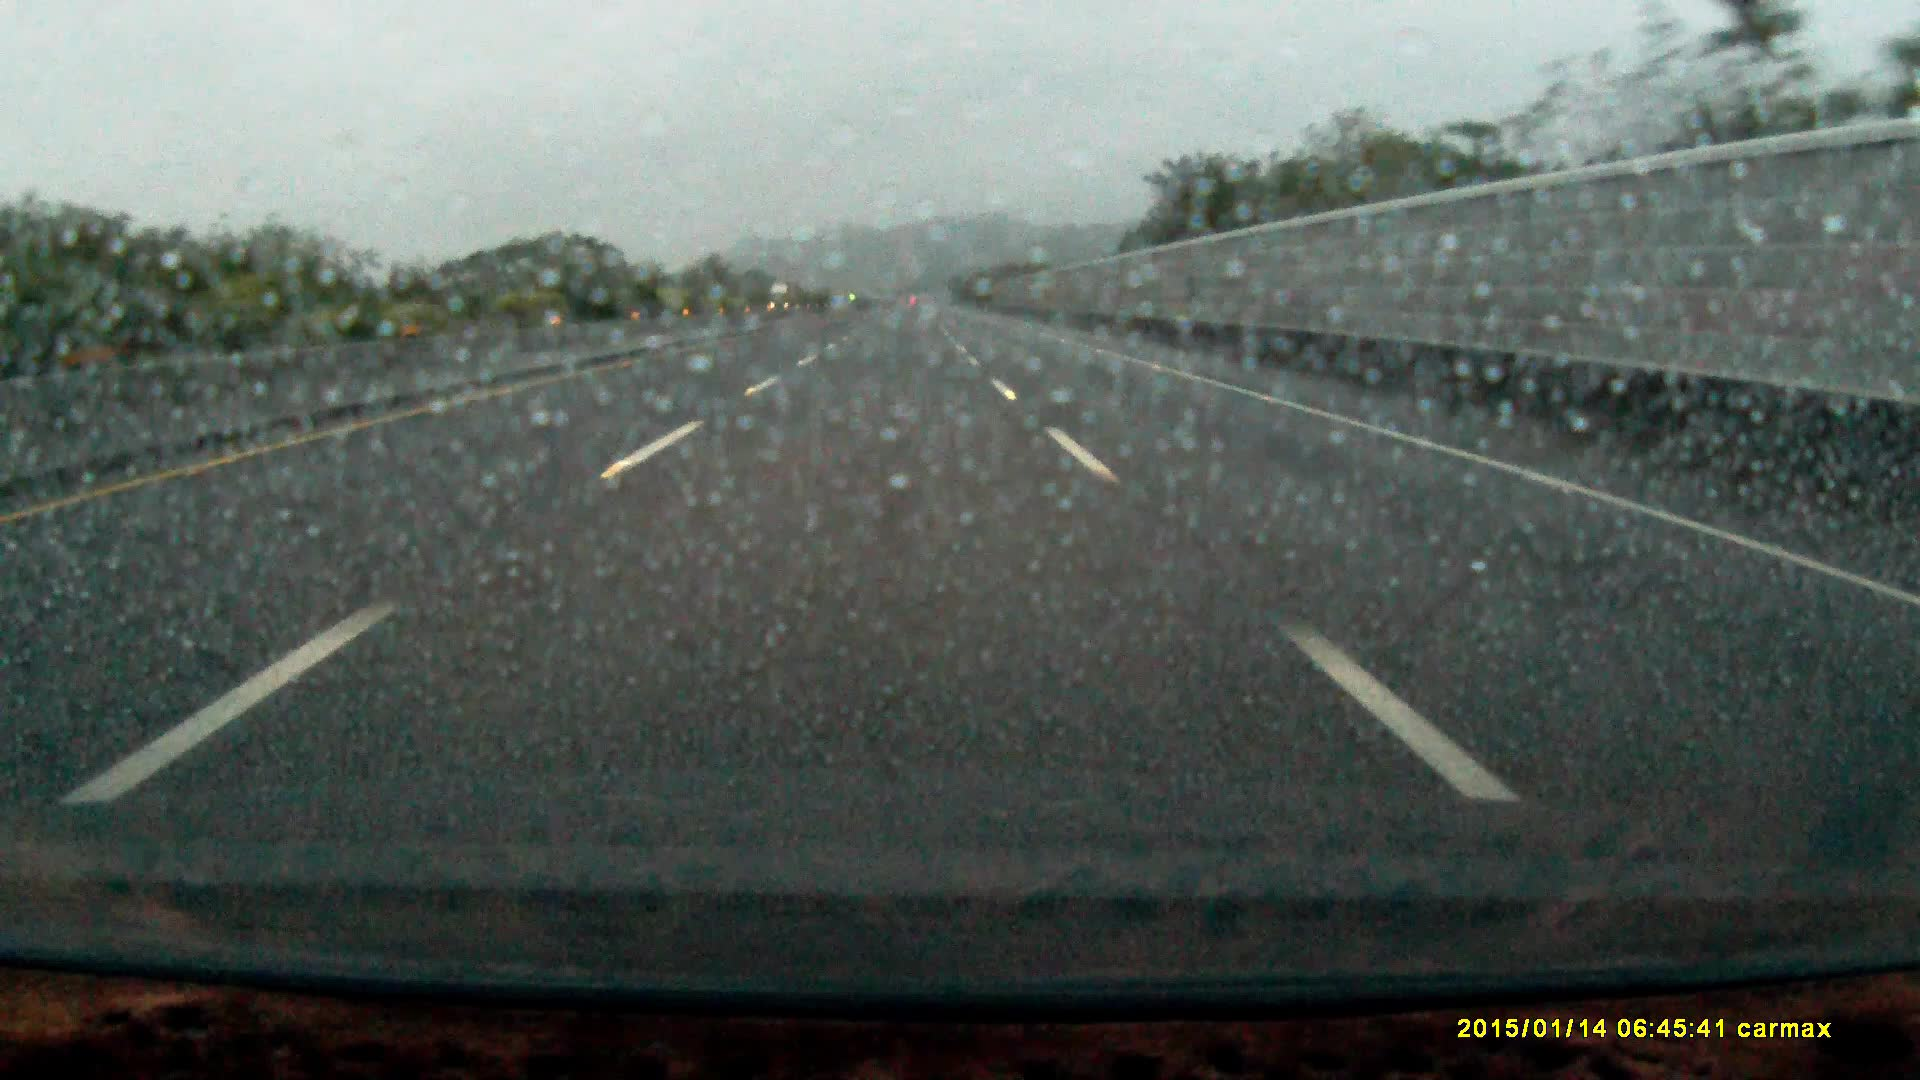vehicle: (771, 280, 796, 307)
